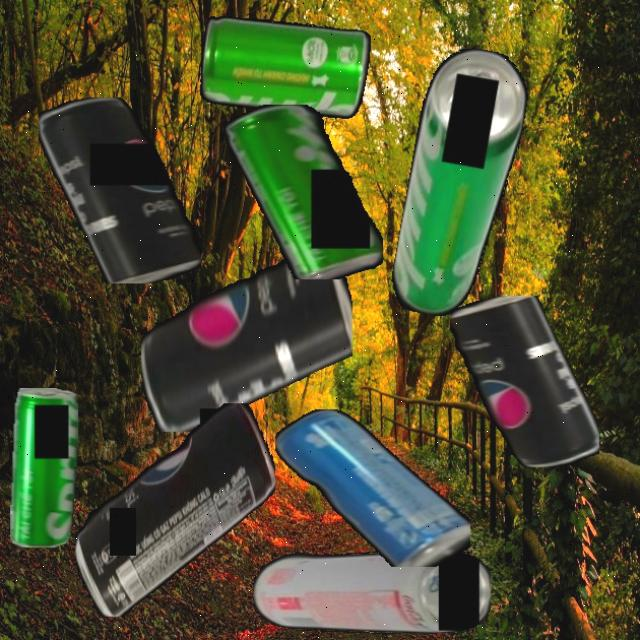debris: (74, 402, 275, 617), (387, 42, 534, 324), (140, 247, 353, 432), (276, 408, 470, 567), (39, 96, 201, 284), (226, 104, 383, 279), (449, 296, 599, 467), (194, 5, 374, 129), (253, 551, 491, 634), (9, 387, 78, 548)
